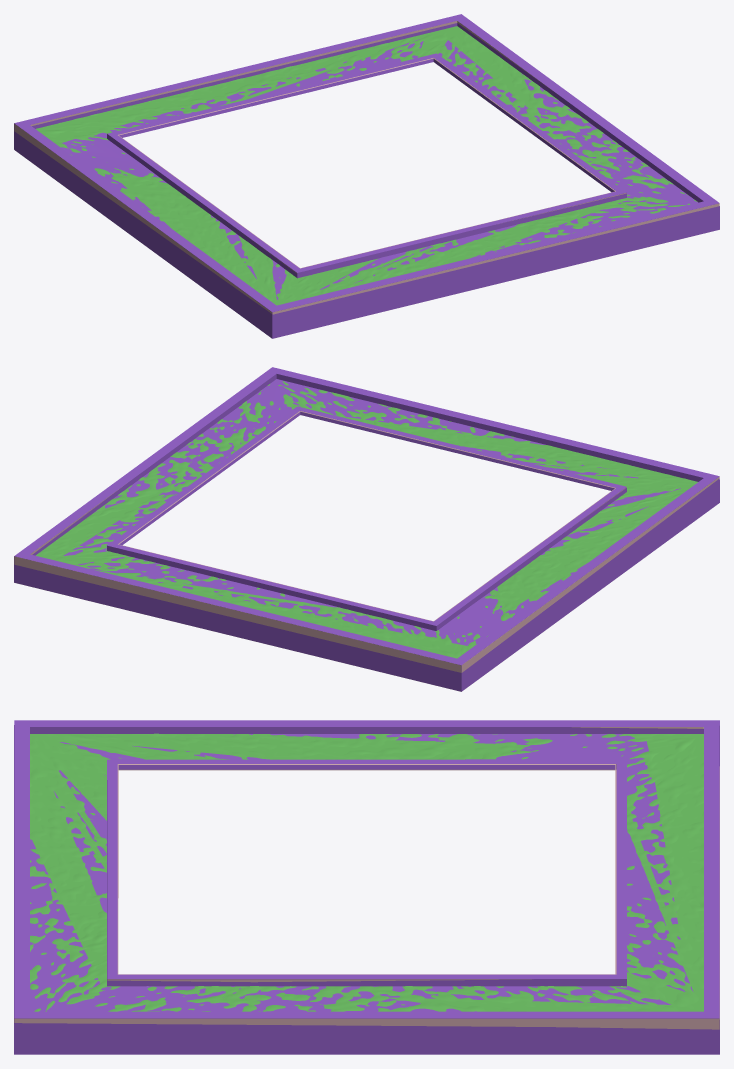
Rendered from [arch] Platform flowerbed.fbx.
3 views of the same model, one above another, from view 1: azimuth 30°, elevation 25°; view 2: azimuth 150°, elevation 25°; view 3: azimuth 270°, elevation 25° (orthographic). The views are drawn at different scales.
Visible parts, largest first — view 1: Platform flowerbed_PHYS, Platform flowerbed_LOD0, Platform flowerbed_GIPROXY; view 2: Platform flowerbed_PHYS, Platform flowerbed_LOD0, Platform flowerbed_GIPROXY; view 3: Platform flowerbed_PHYS, Platform flowerbed_LOD0, Platform flowerbed_GIPROXY.
Part boxes in pixels (left/top/right/bottom): Platform flowerbed_PHYS: left=14, top=14, right=719, bottom=338; Platform flowerbed_LOD0: left=14, top=32, right=719, bottom=314; Platform flowerbed_GIPROXY: left=30, top=21, right=630, bottom=305; Platform flowerbed_PHYS: left=14, top=367, right=719, bottom=691; Platform flowerbed_LOD0: left=14, top=381, right=719, bottom=689; Platform flowerbed_GIPROXY: left=30, top=411, right=697, bottom=658; Platform flowerbed_PHYS: left=14, top=720, right=719, bottom=1054; Platform flowerbed_LOD0: left=14, top=727, right=719, bottom=1029; Platform flowerbed_GIPROXY: left=30, top=734, right=703, bottom=1011.
Size of what is drawn, in the model's own units: 3509 by 200 by 3509.
